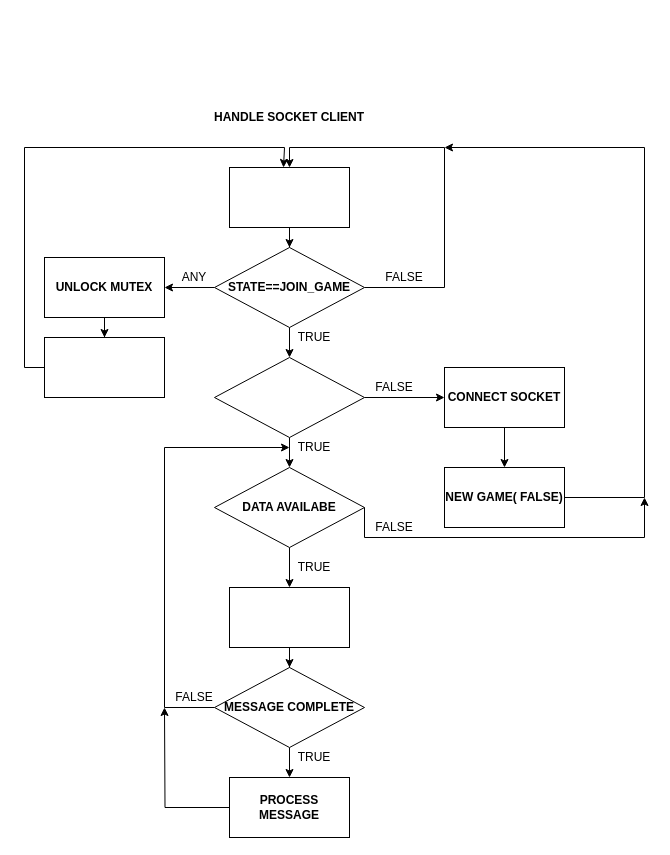
The diagram is 670 pixels wide and 855 high, and some of its shapes have lost their labels. The shapes that lost their labels are listed below. From the top down, each one's centre as x and y in pixels, then its label:
At point 289,197: "LOCK MUTEX".
At point 104,367: "DELAY".
At point 289,397: "CONNECTED CLIENT".
At point 289,617: "READ BYTE".
